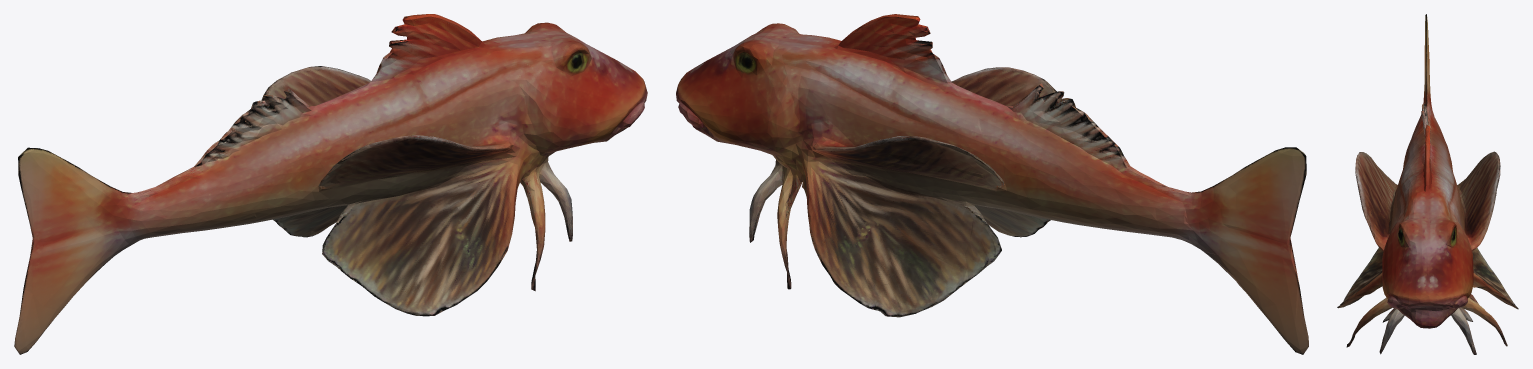
File: kirlangic.glb
3 views of the same model, side by side, from view 1: azimuth 30°, elevation 25°; view 2: azimuth 150°, elevation 25°; view 3: azimuth 270°, elevation 25° (orthographic). The views are drawn at different scales.
Visible parts, largest first — view 1: world; view 2: world; view 3: world.
Boxes of the visible parts, x1,y1,x2,y2 form: world: (14, 14, 647, 354); world: (676, 14, 1308, 354); world: (1337, 14, 1518, 354).
Bounding box in the file's own units: 0.695 × 0.2706 × 0.2292.
1 material, 1 textured.
